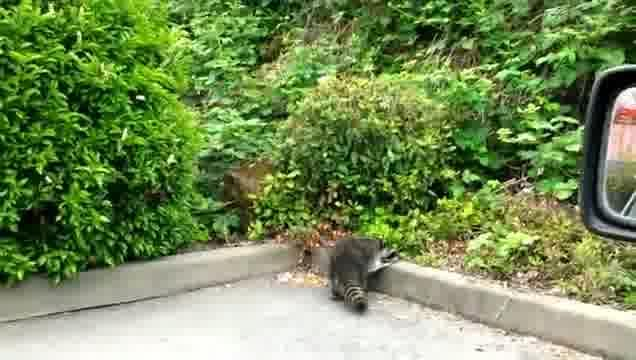raccoon: (331, 237, 401, 317)
